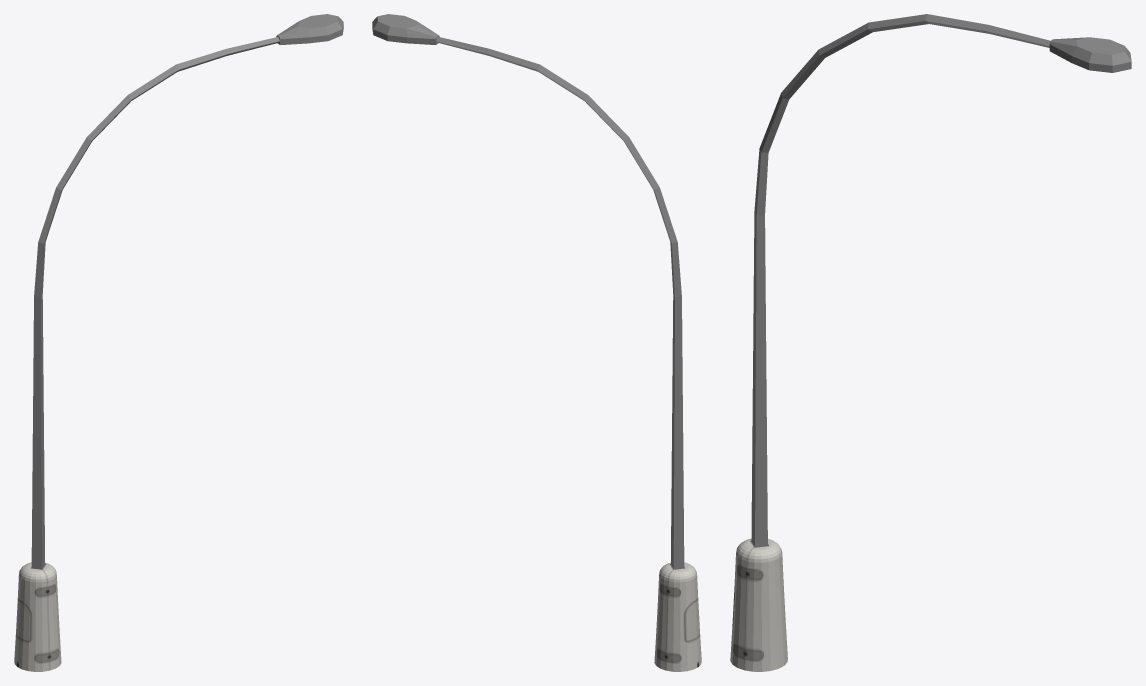
The model's file is lampa_david_h.glb.
3 views of the same model, side by side, from view 1: azimuth 30°, elevation 25°; view 2: azimuth 150°, elevation 25°; view 3: azimuth 330°, elevation 25° (orthographic). The views are drawn at different scales.
Parts seen in each view (by area): view 1: lampa; view 2: lampa; view 3: lampa.
Part boxes in pixels (box(x1,y1,x2,y2)): lampa: box(14, 14, 343, 671); lampa: box(372, 14, 701, 671); lampa: box(730, 14, 1131, 671).
Bounding box in the file's own units: 3.27 × 5.49 × 0.4132.
2 materials, 1 textured.
